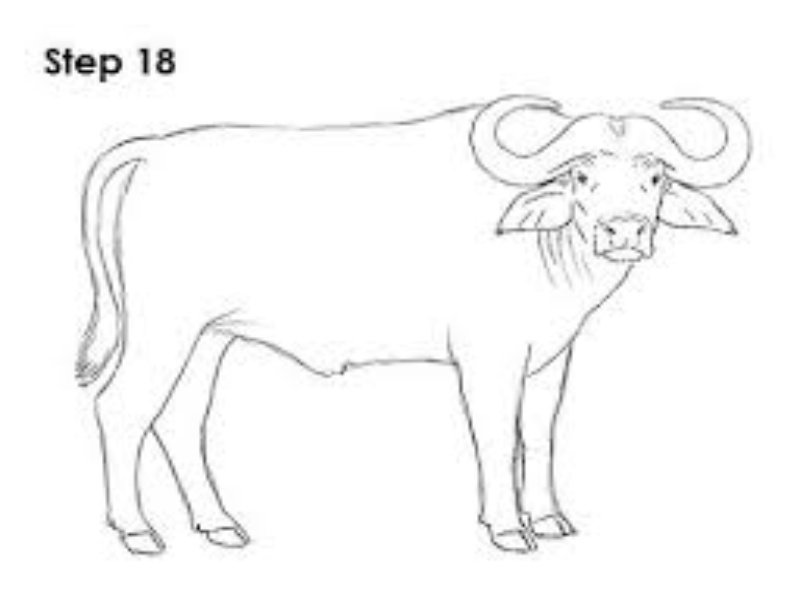buffalo: (66, 89, 762, 566)
